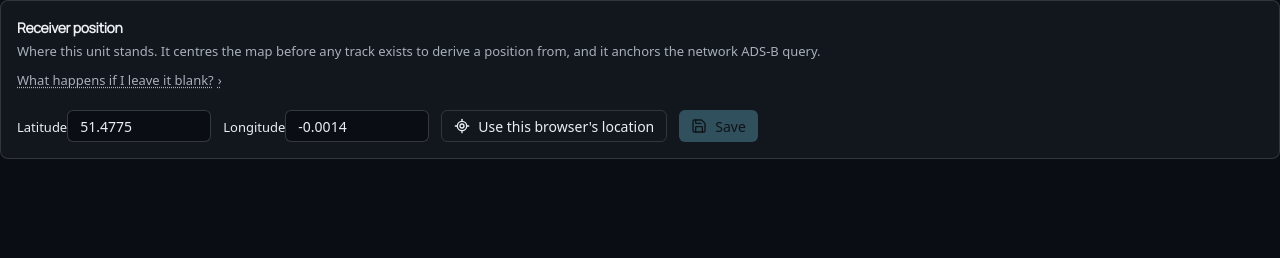
Test: ReceiverPositionEditor › refuses to save with one field blank, and says so
Clear the number field labelled "Latitude". click: [139, 126]
box: [67,110,211,142]
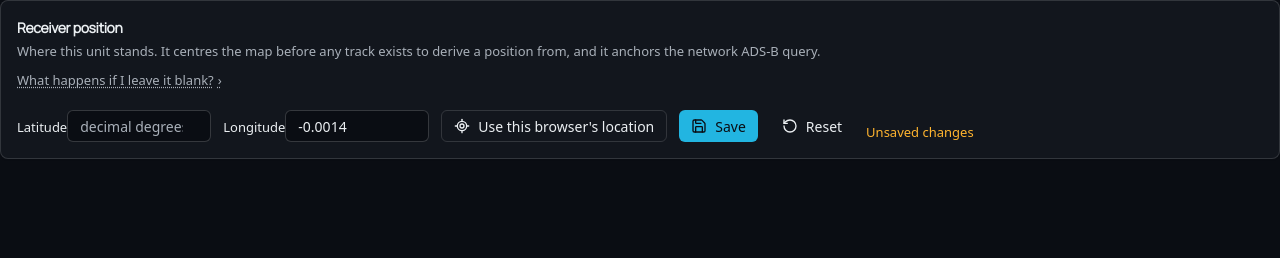
Click the button "Save". click: [719, 126]
box: [679,110,758,142]
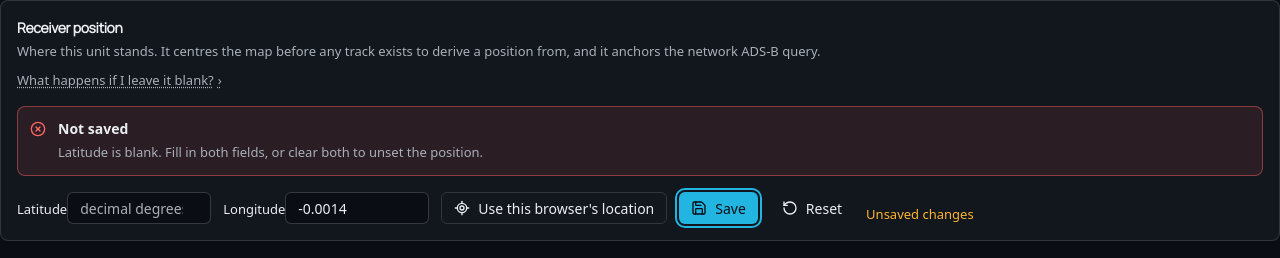
Expected: the message that starts with "Not saved" shows "Latitude is blank. Fill in both fields, or clear both", [58,143,483,161]
